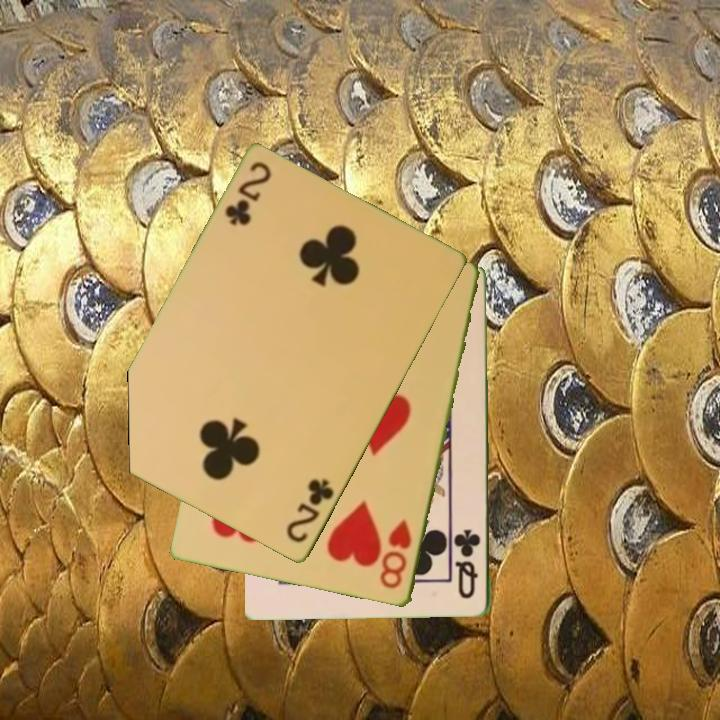2c: (282, 475, 338, 547), (221, 158, 275, 229)
8h: (377, 516, 415, 593)
Qc: (452, 526, 483, 602)
